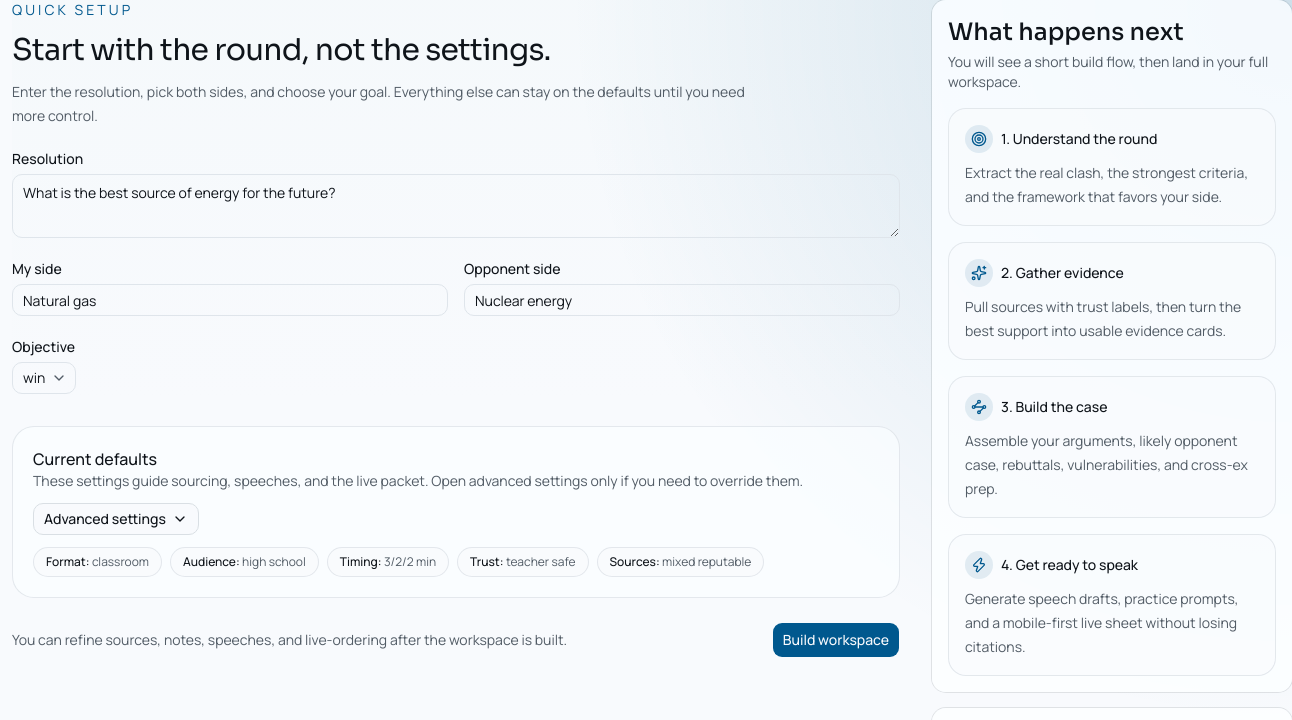
Test: DebateSetupWizard › updates the round summary as the user edits the setup fields
Replace the text in the text box labelled "Resolution" with "Should schools require uniforms?" at point(456, 206), box x1=12 y1=174 x2=900 y2=238
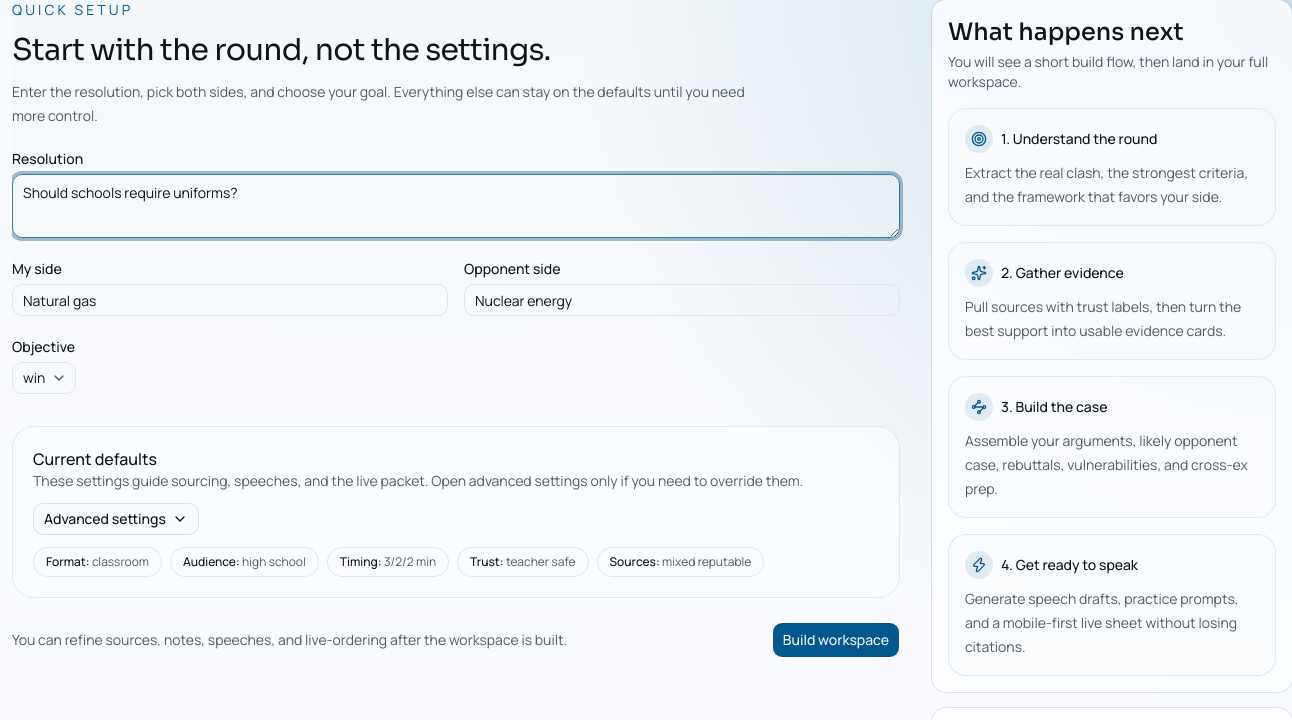
Replace the text in the field labelled "My side" with "Schools should require uniforms" at point(230, 300), box x1=12 y1=284 x2=448 y2=316
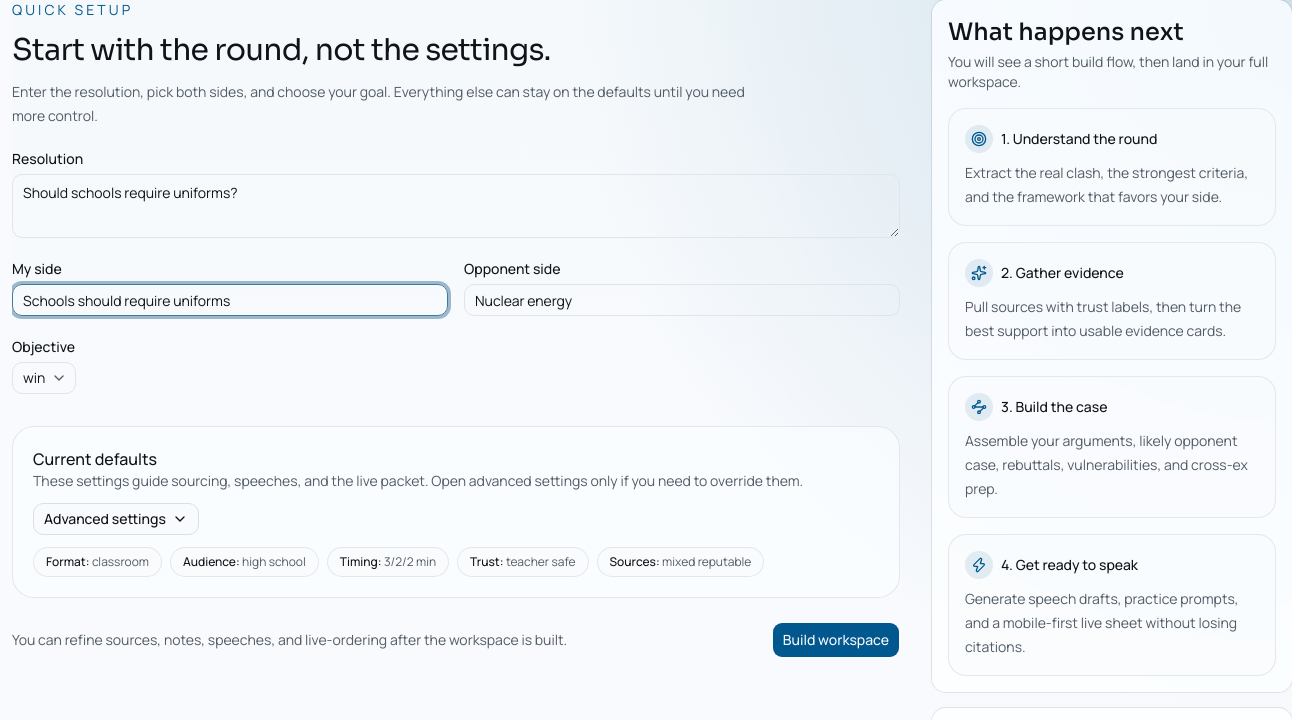
Replace the text in the field labelled "Opponent side" with "Schools should not require uniforms" at point(682, 300), box x1=464 y1=284 x2=900 y2=316
(page scrolled)
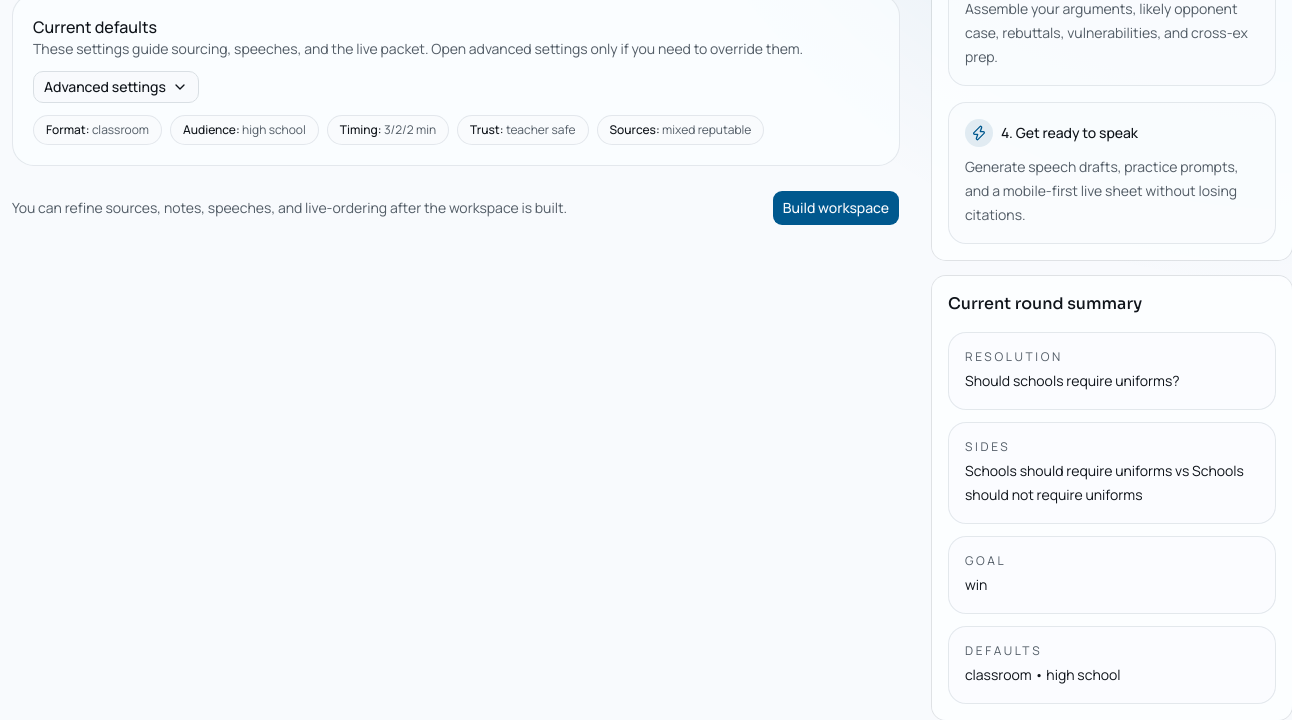
Expected: the text "Should schools require uniforms?" is shown, x1=965 y1=371 x2=1180 y2=390
Expected: the text "Schools should require uniforms vs Schools should not require uniforms" is shown, x1=965 y1=459 x2=1259 y2=507
